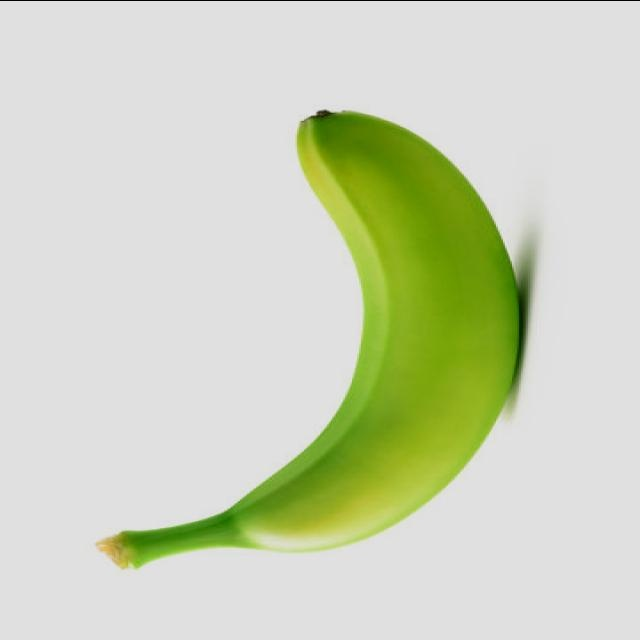agrume: (96, 111, 520, 569)
